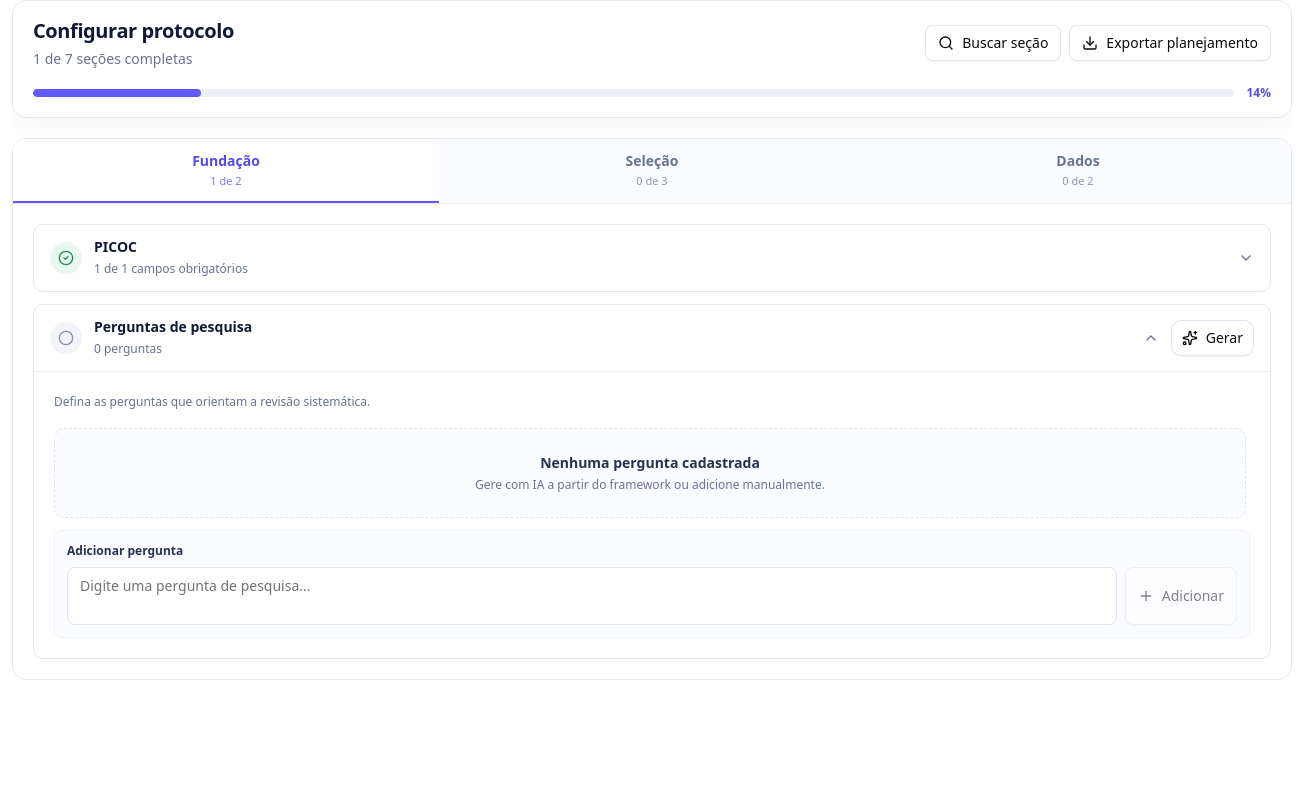
Test: ProjectPlanning › edits inclusion, exclusion, and checklist criteria inline
What coordinates should you click on to do the following:
click the tab "Seleção 0 de 3"
I would click on:
 (652, 171)
Its box is [439,139,865,203].
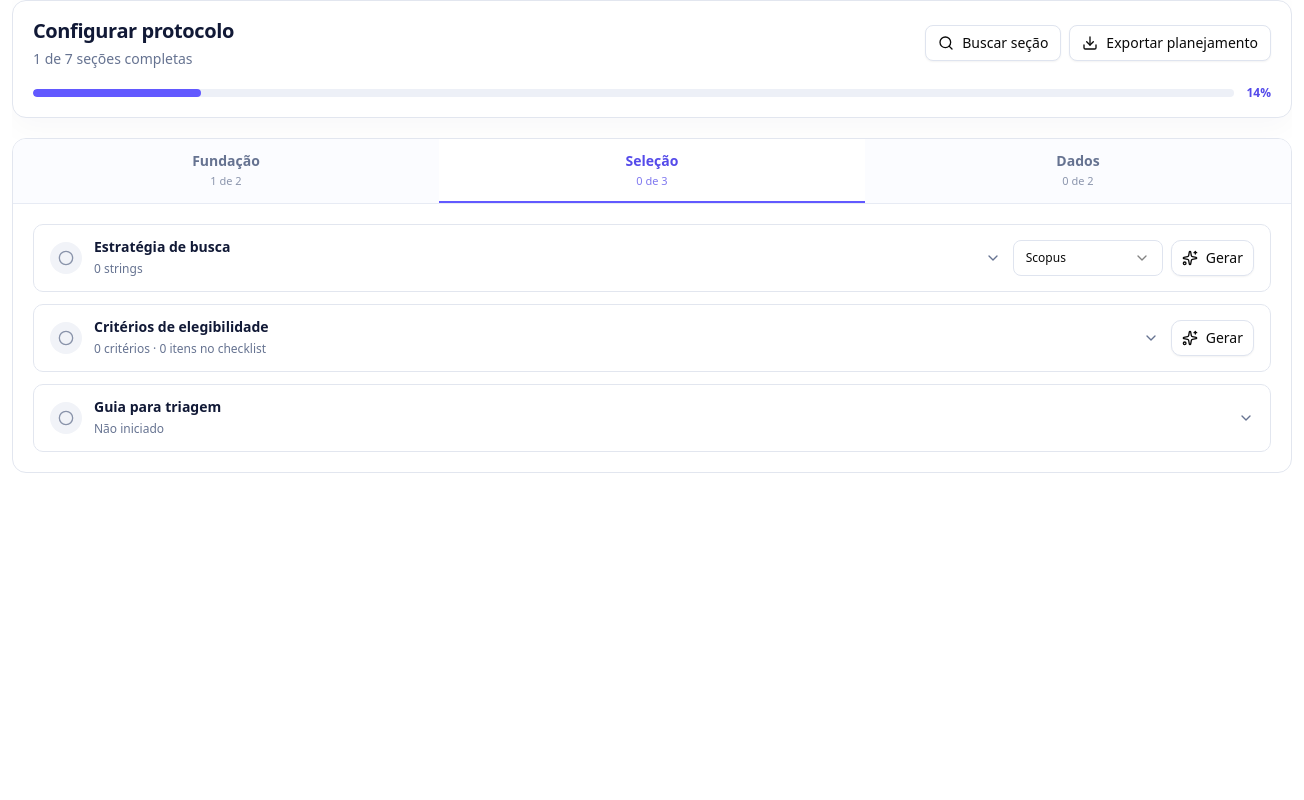
What coordinates should you click on to do the following:
click the button "Critérios de elegibilidade"
I would click on:
 (66, 338)
Its box is [50,317,1159,359].
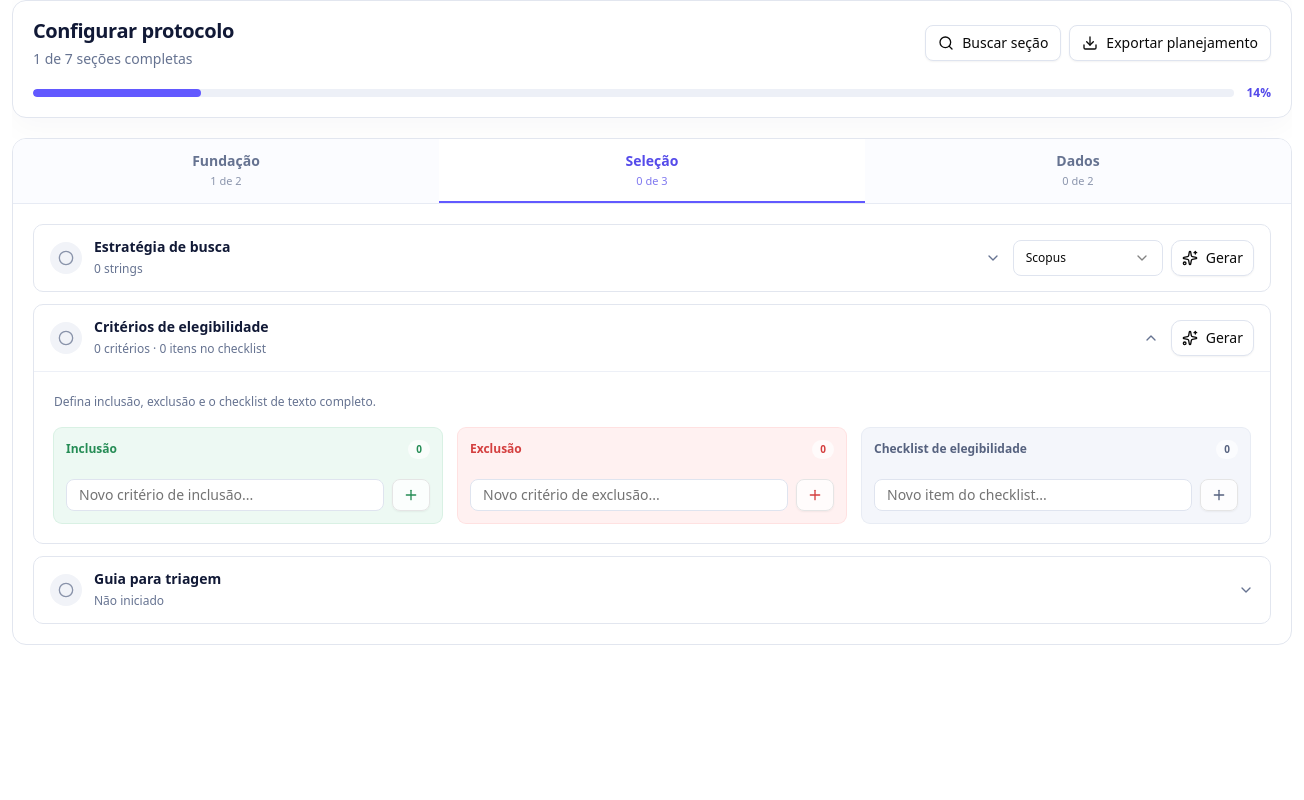
expect the field with placeholder "Novo critério de inclusão..." is shown: met, box [66,479,384,511]
expect the field with placeholder "Novo critério de exclusão..." is shown: met, box [470,479,788,511]
expect the field with placeholder "Novo item do checklist..." is shown: met, box [874,479,1192,511]
